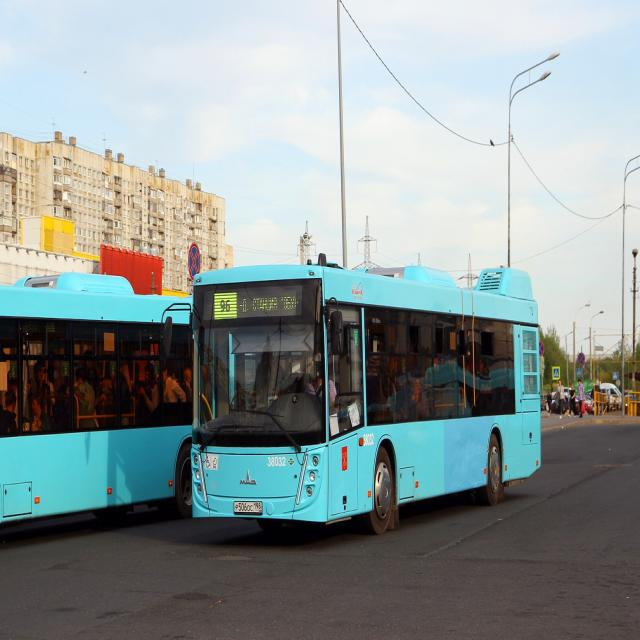number-of-bus: (220, 297, 235, 316)
